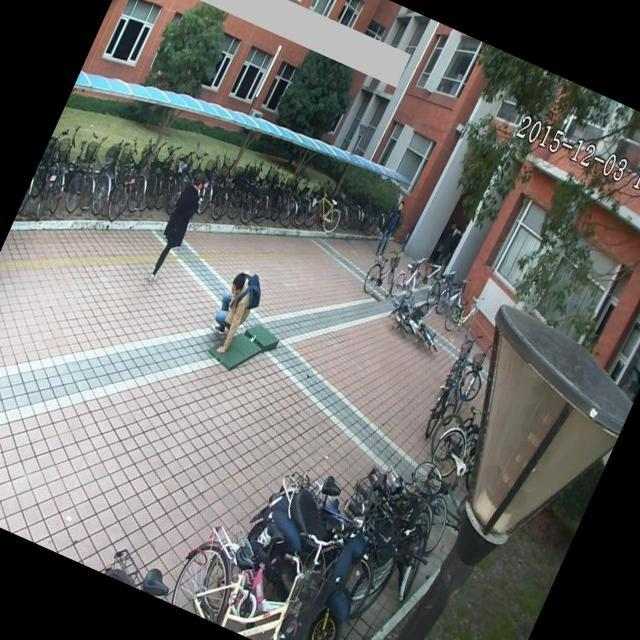person: (138, 162, 216, 290), (189, 258, 275, 360), (367, 192, 412, 263), (432, 218, 466, 266)
